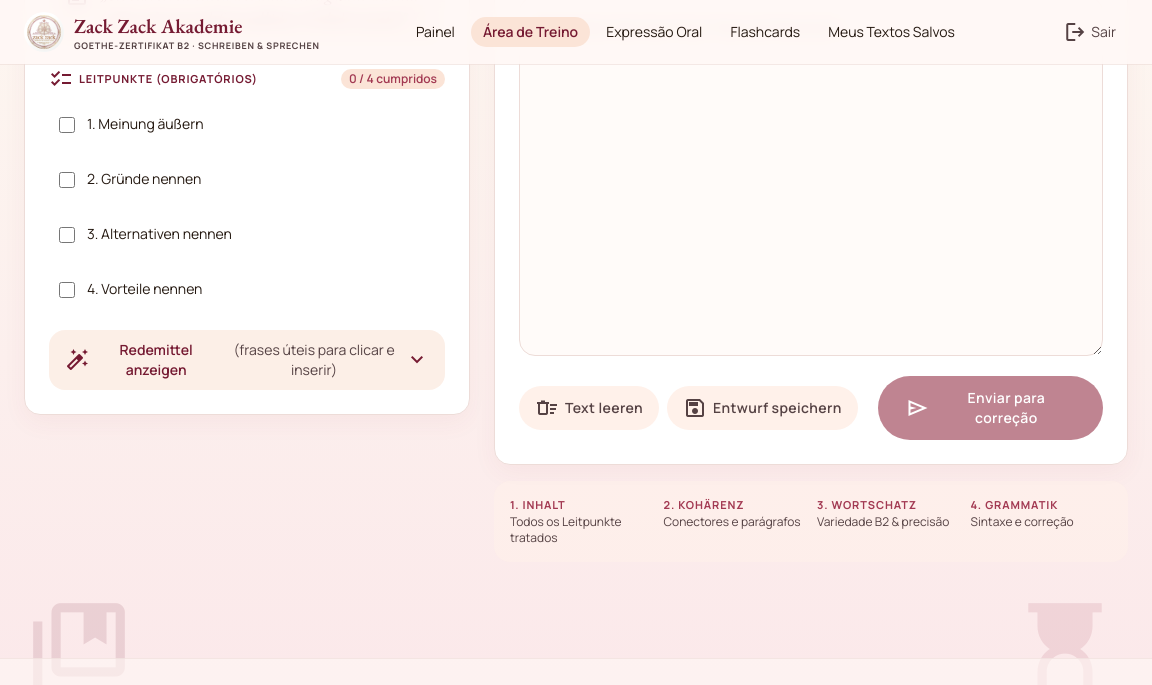
Scenario: writing practice › inserts a Redemittel phrase into the text
(page scrolled)
Click the button "Redemittel anzeigen (frases úteis para clicar e inserir)".
click(247, 360)  # box [49,330,445,390]
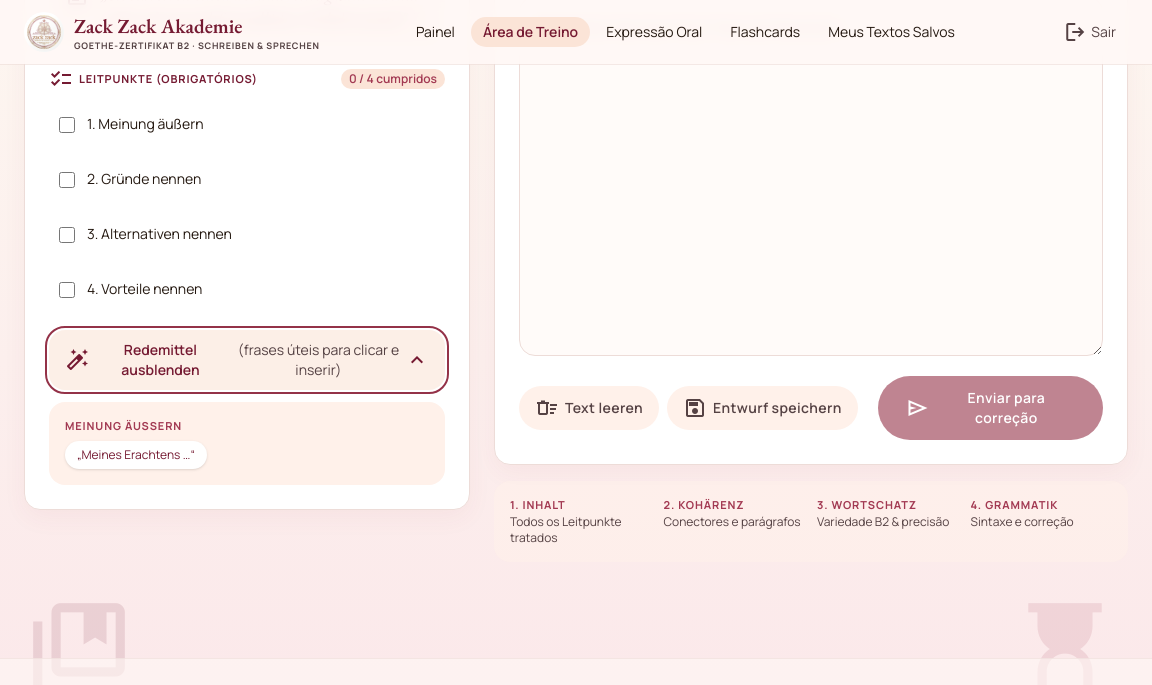
Click the button "„Meines Erachtens …“".
click(136, 455)  # box [65,441,207,469]
(page scrolled)
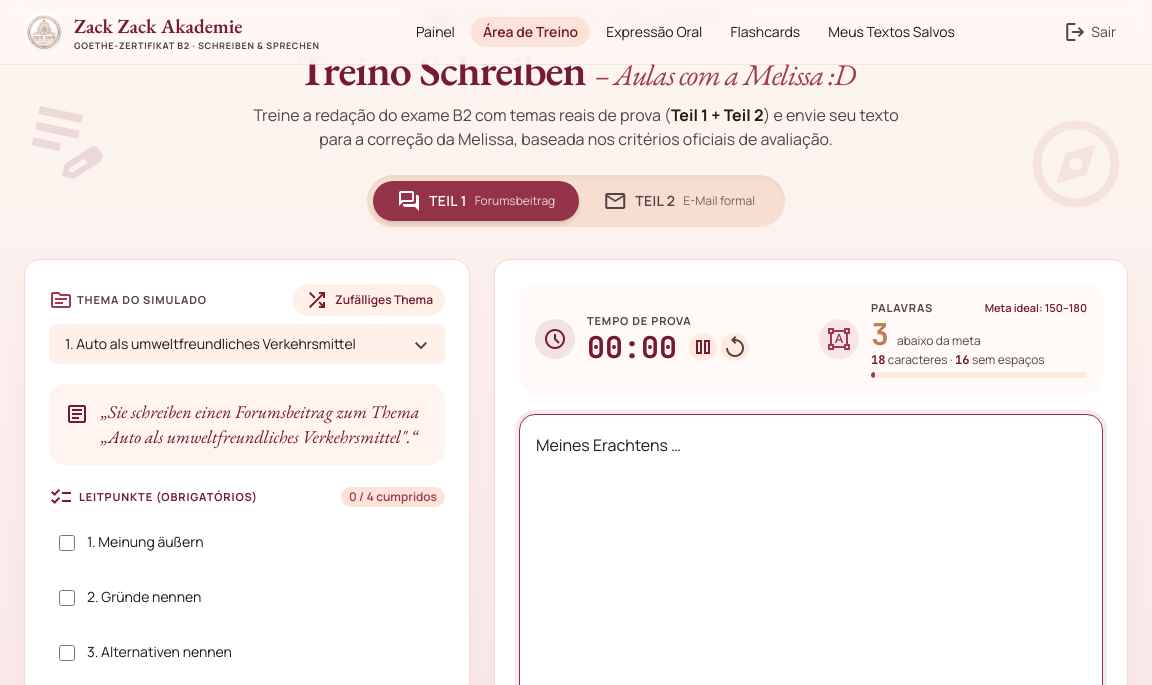
expect the text "18 caracteres · 16 sem espaços" is shown: met, box [871,351,1044,368]
